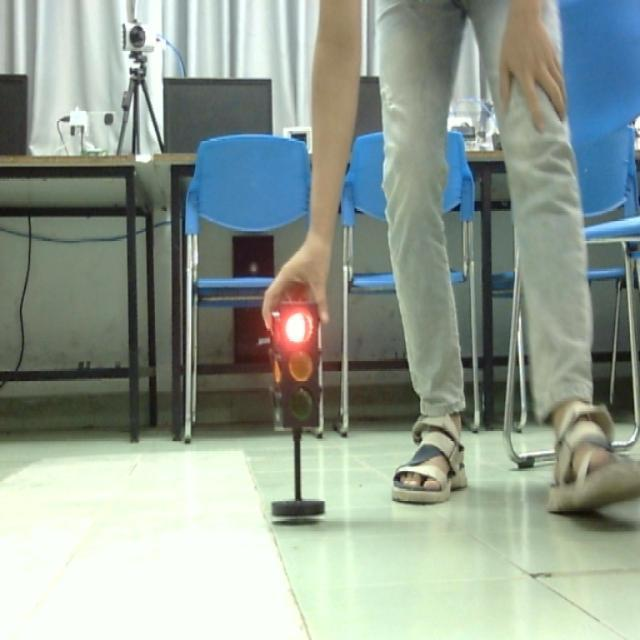red_light: (268, 303, 320, 437)
